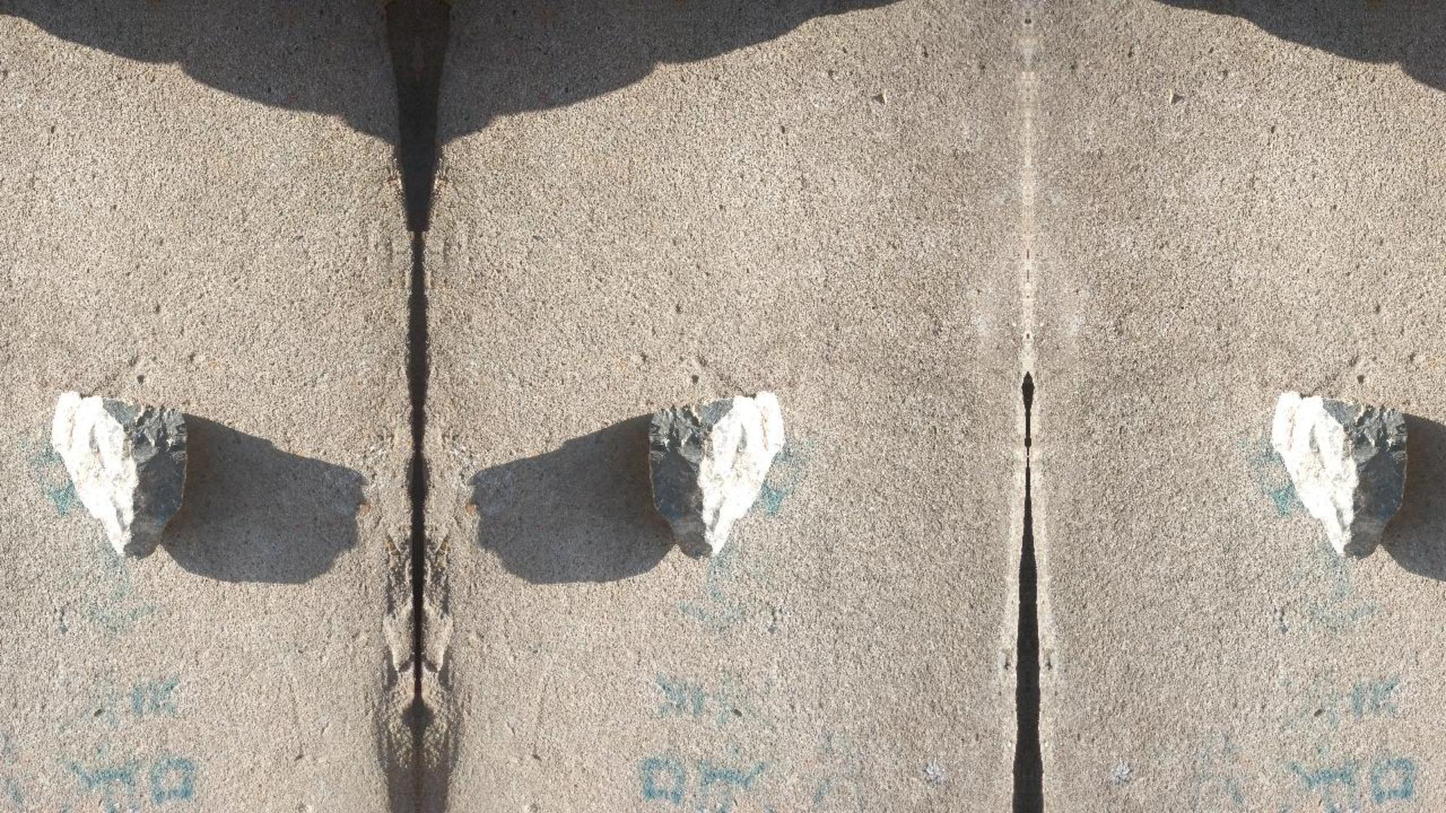rock: (1272, 392, 1406, 556), (52, 392, 185, 554), (651, 392, 783, 554)
